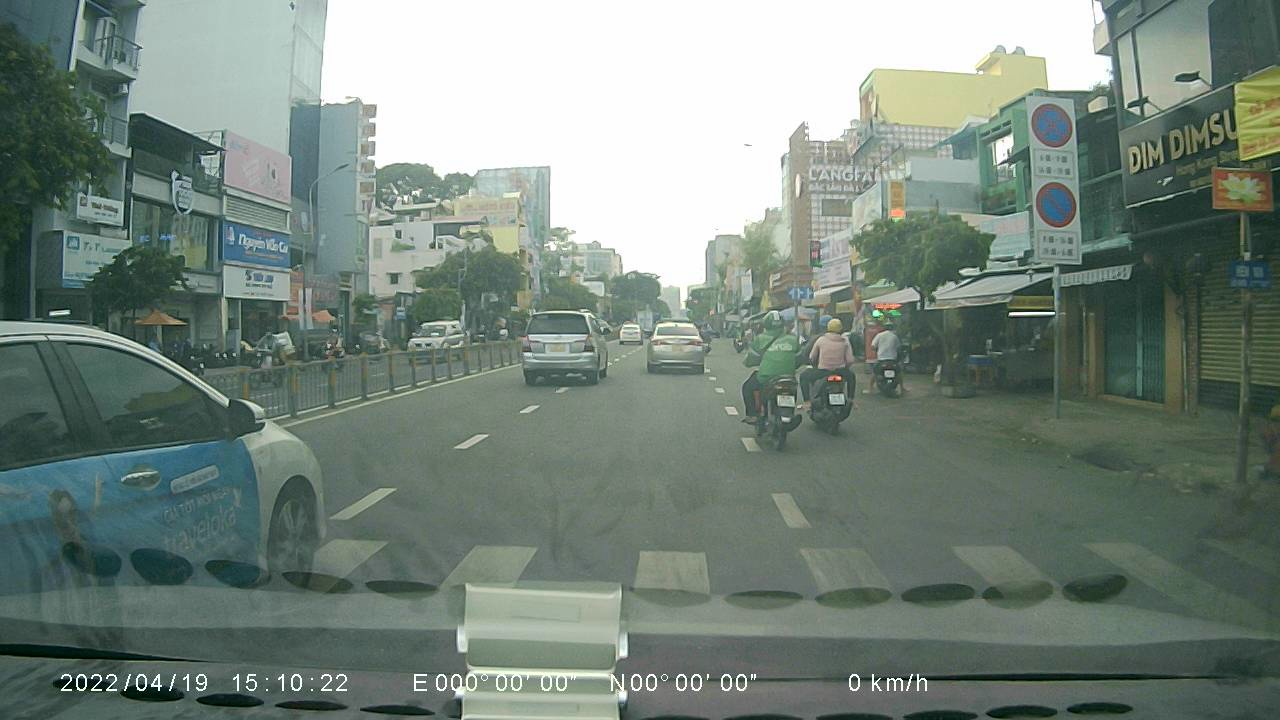Bien khac: (1030, 96, 1075, 148)
Cam do xe: (1032, 181, 1077, 228)
